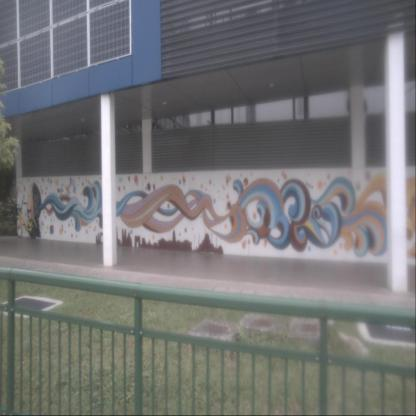vehicle-bicycle: (15, 202, 37, 240)
